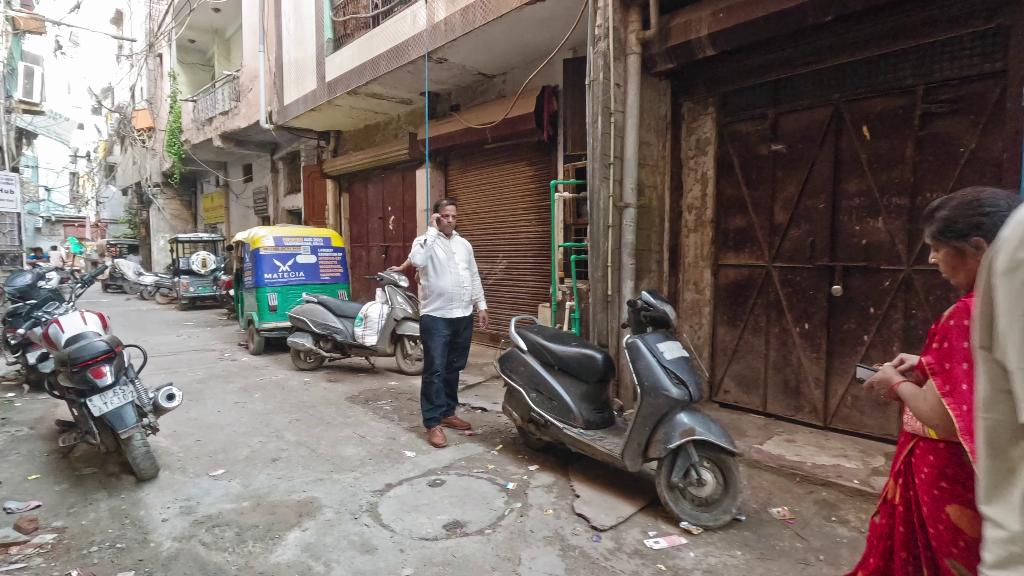garbage: (640, 532, 695, 557), (771, 507, 794, 521)
